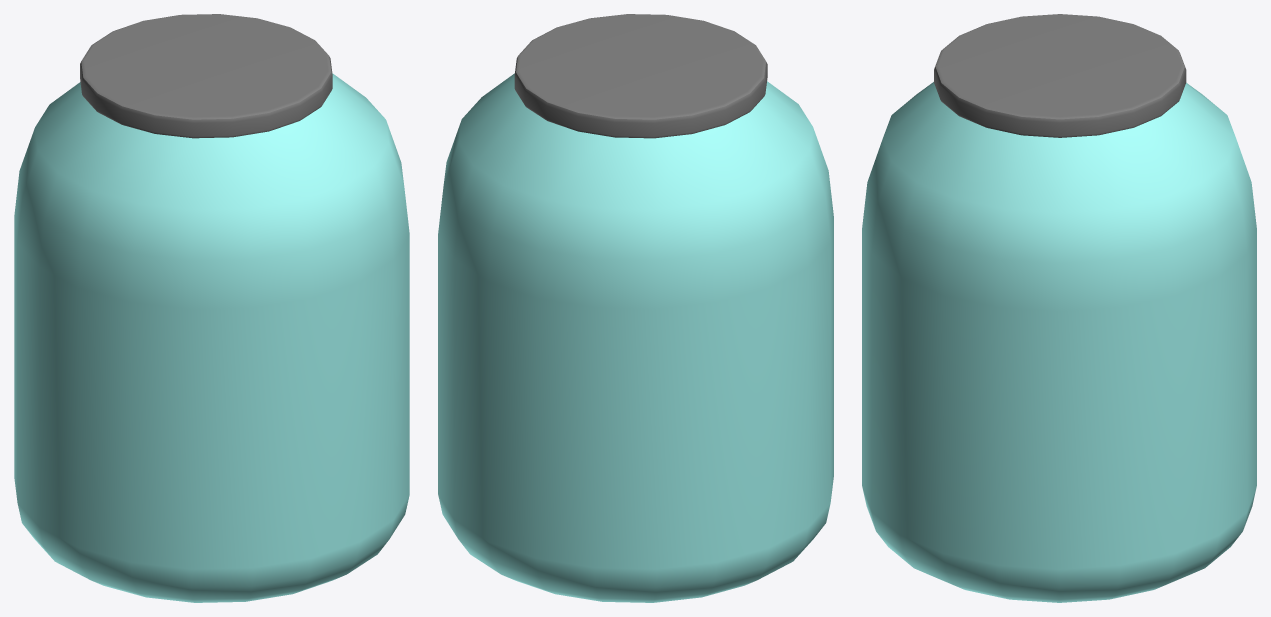
File: Frasco.fbx
3 views of the same model, side by side, from view 1: azimuth 30°, elevation 25°; view 2: azimuth 150°, elevation 25°; view 3: azimuth 270°, elevation 25° (orthographic).
Parts seen in each view (by area): view 1: Cristal, Tapa; view 2: Cristal, Tapa; view 3: Cristal, Tapa.
Part boxes in pixels (box(x1,y1,x2,y2)): Cristal: box(14, 73, 409, 602); Tapa: box(80, 14, 332, 138); Cristal: box(438, 73, 833, 602); Tapa: box(514, 14, 767, 138); Cristal: box(862, 82, 1256, 602); Tapa: box(934, 14, 1186, 137).
Bounding box in the file's own units: 0.1753 × 0.2307 × 0.1753.
